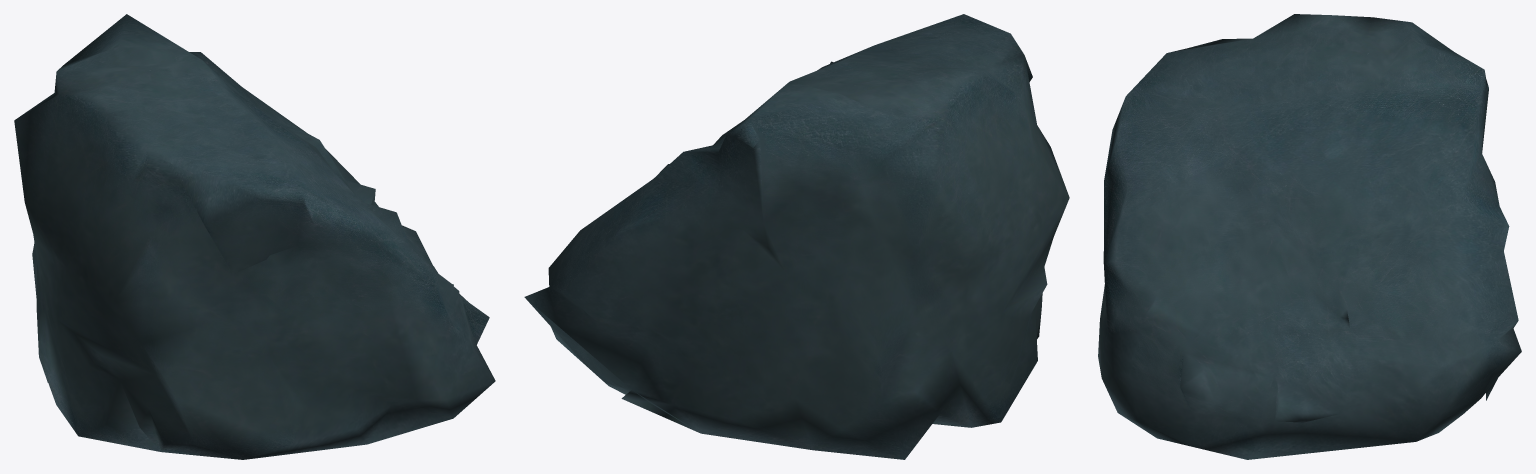
File: Rock v1-BfMWfQQr.glb
The picture shows the model from 3 angles, left to right: view 1: azimuth 30°, elevation 25°; view 2: azimuth 150°, elevation 25°; view 3: azimuth 270°, elevation 25°; orthographic projection. The views are drawn at different scales.
Visible parts, largest first — view 1: tripo_node_e53952dd-31ec-4ed1-8b51-237cc790106a; view 2: tripo_node_e53952dd-31ec-4ed1-8b51-237cc790106a; view 3: tripo_node_e53952dd-31ec-4ed1-8b51-237cc790106a.
Part boxes in pixels (box(x1,y1,x2,y2)): tripo_node_e53952dd-31ec-4ed1-8b51-237cc790106a: box(14, 14, 495, 459); tripo_node_e53952dd-31ec-4ed1-8b51-237cc790106a: box(524, 14, 1069, 459); tripo_node_e53952dd-31ec-4ed1-8b51-237cc790106a: box(1098, 14, 1521, 459).
Size of the model in its own units: 0.9977 by 0.8066 by 1.
1 material, 1 textured.
